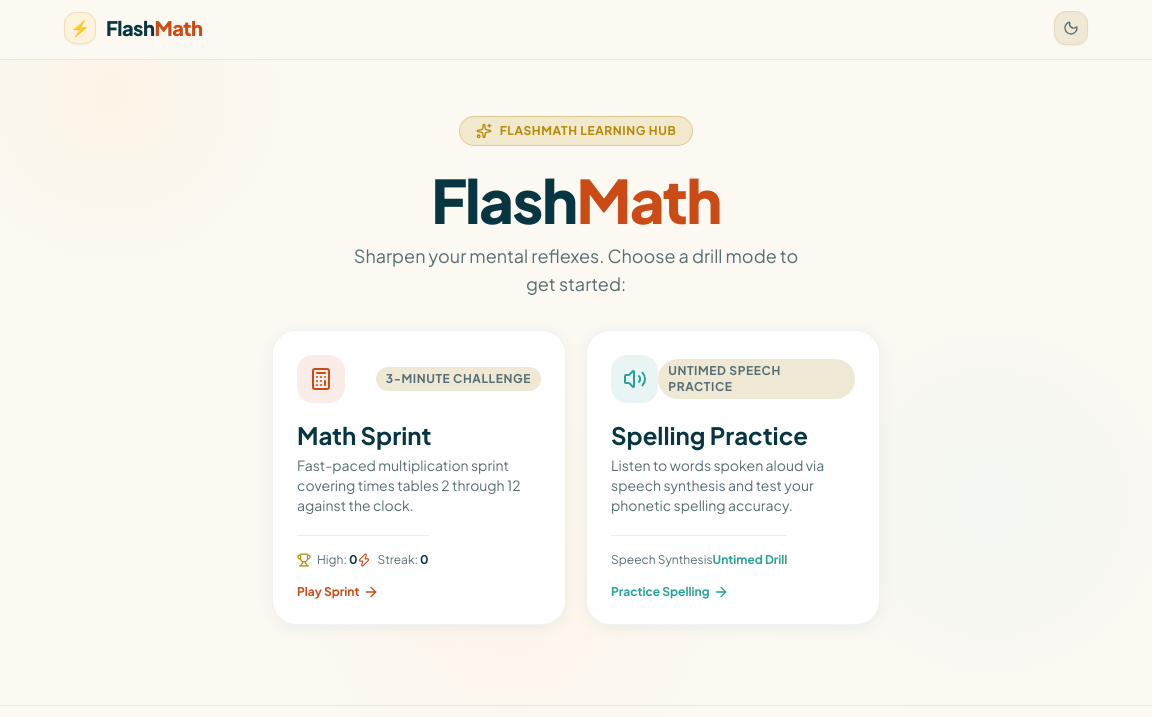
Test case: FlashMath App Integration › navigates to History view from math and back to sprint
The image size is (1152, 717).
Click the button with aria-label "start math sprint". click: (419, 478)
box: [272,330,566,625]
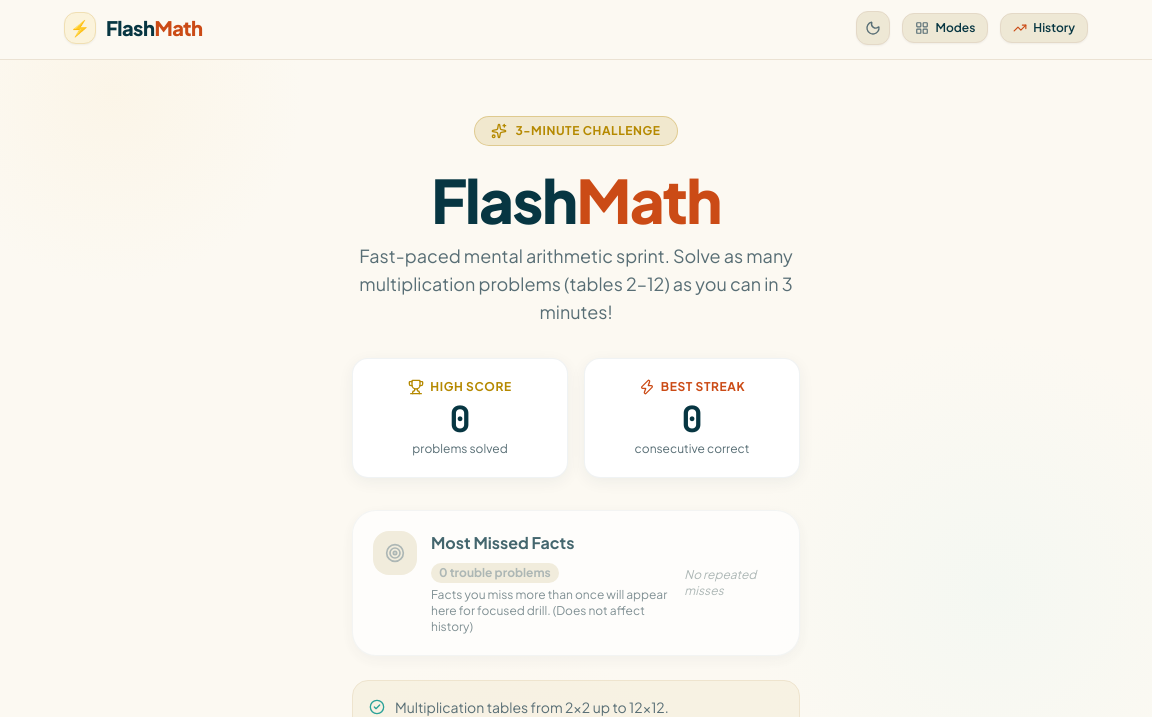
Note: Click History in header
Click the button with aria-label "view history". click: (1044, 28)
box: [1000,13,1088,43]
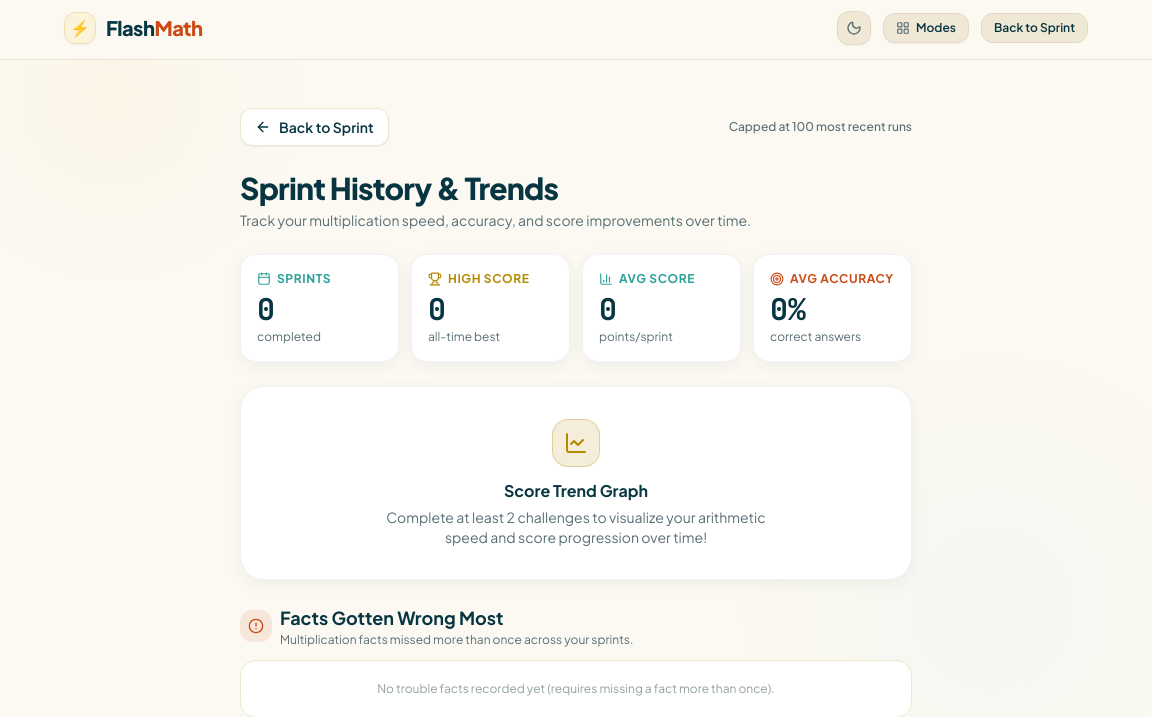
expect the heading "Sprint History & Trends" is shown: met, box [240,169,558,207]
Note: Click Back to Sprint in header or page
Click the 1st button "Back to Sprint". click: (1034, 28)
box: [981,13,1088,43]
(page scrolled)
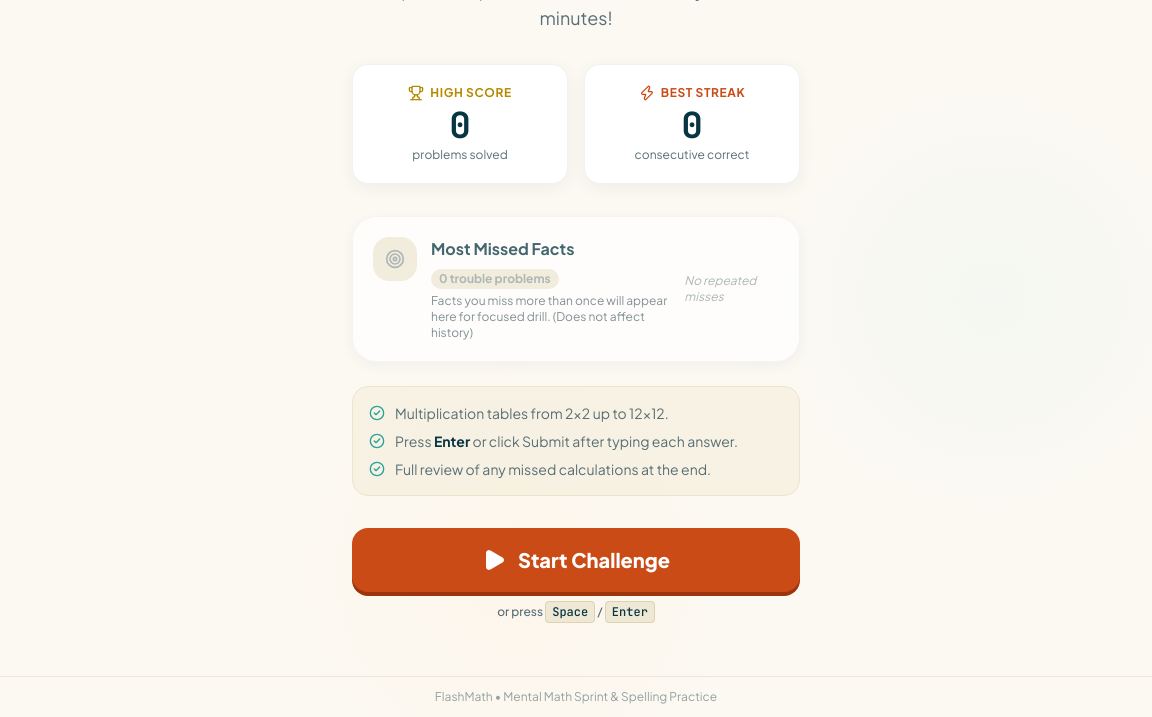
expect the text "Start Challenge" is shown: met, box [518,546,670,574]
